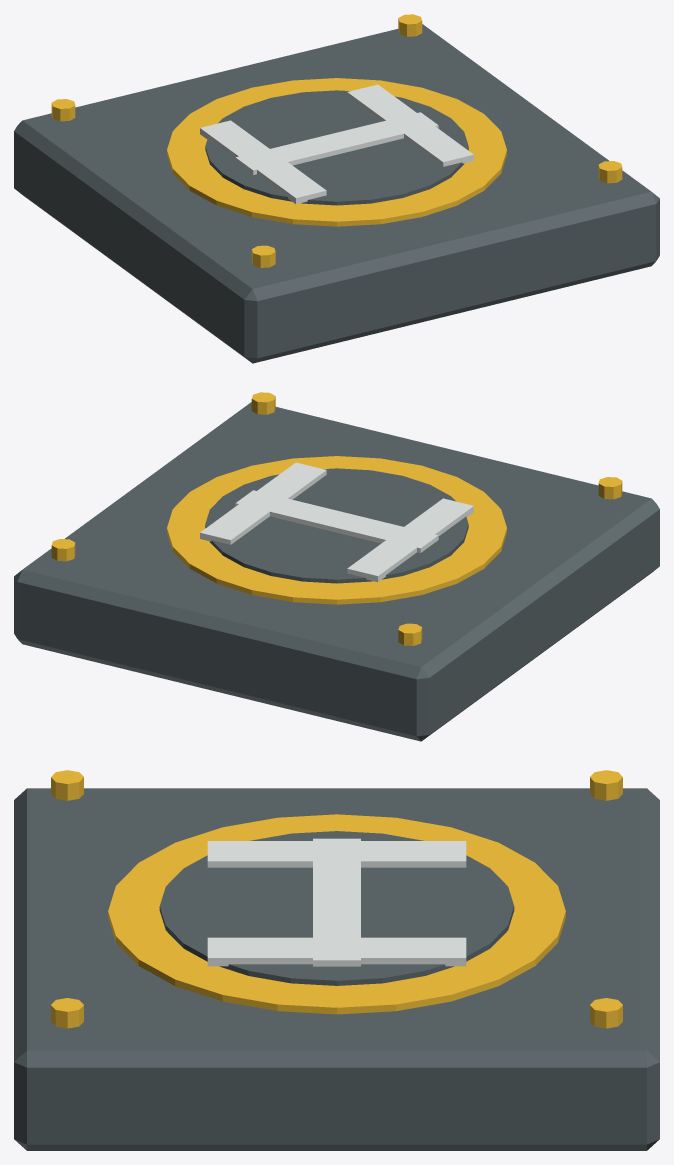
Rendered from MOD_HeliDeck.fbx.
The picture shows the model from 3 angles, top to bottom: view 1: azimuth 30°, elevation 25°; view 2: azimuth 150°, elevation 25°; view 3: azimuth 270°, elevation 25°; orthographic projection. The views are drawn at different scales.
Parts seen in each view (by area): view 1: LandingPad, LandingCircle, LandingInner, LandingH_H, LandingH_V2, LandingH_V1, DeckLight_04, DeckLight_01, DeckLight_03, DeckLight_02; view 2: LandingPad, LandingCircle, LandingInner, LandingH_H, LandingH_V1, LandingH_V2, DeckLight_02, DeckLight_01, DeckLight_03, DeckLight_04; view 3: LandingPad, LandingCircle, LandingInner, LandingH_V2, LandingH_V1, LandingH_H, DeckLight_01, DeckLight_02, DeckLight_03, DeckLight_04.
Boxes of the visible parts, box(x1,y1,x2,y2) form: LandingPad: box(14, 24, 659, 363); LandingCircle: box(167, 78, 506, 226); LandingInner: box(205, 90, 468, 205); LandingH_H: box(235, 112, 438, 174); LandingH_V2: box(347, 84, 473, 166); LandingH_V1: box(200, 120, 326, 204); DeckLight_04: box(398, 14, 422, 36); DeckLight_01: box(251, 245, 275, 267); DeckLight_03: box(51, 99, 75, 121); DeckLight_02: box(598, 161, 622, 183); LandingPad: box(14, 402, 659, 741); LandingCircle: box(167, 456, 506, 604); LandingInner: box(205, 468, 468, 583); LandingH_H: box(235, 490, 438, 552); LandingH_V1: box(347, 498, 473, 582); LandingH_V2: box(200, 462, 326, 544); DeckLight_02: box(251, 392, 275, 414); DeckLight_01: box(598, 477, 622, 499); DeckLight_03: box(398, 623, 422, 645); DeckLight_04: box(51, 539, 75, 561); LandingPad: box(14, 788, 659, 1150); LandingCircle: box(108, 814, 565, 1014); LandingInner: box(159, 831, 514, 985); LandingH_V2: box(207, 937, 466, 966); LandingH_V1: box(207, 841, 466, 867); LandingH_H: box(313, 838, 360, 966); DeckLight_01: box(51, 770, 83, 800); DeckLight_02: box(51, 998, 83, 1028); DeckLight_03: box(590, 770, 622, 800); DeckLight_04: box(590, 998, 622, 1028).
Size of the model in its own units: 175 by 38.5 by 175.
